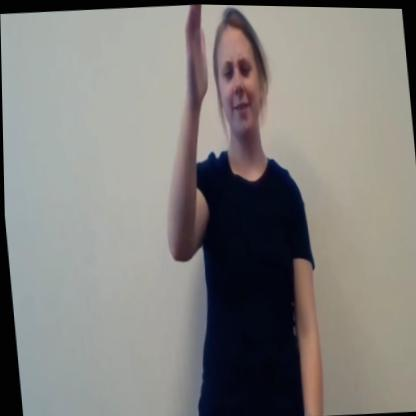Hello: (163, 3, 302, 205)
